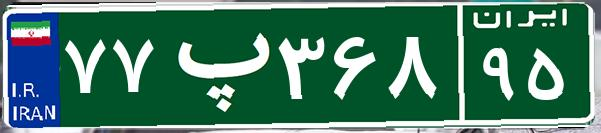3: (273, 28, 330, 110)
5: (525, 38, 570, 115)
6: (330, 28, 385, 110)
7: (57, 26, 110, 107), (110, 28, 158, 105)
8: (385, 28, 445, 110)
9: (475, 38, 525, 113)
پ: (158, 15, 273, 115)
